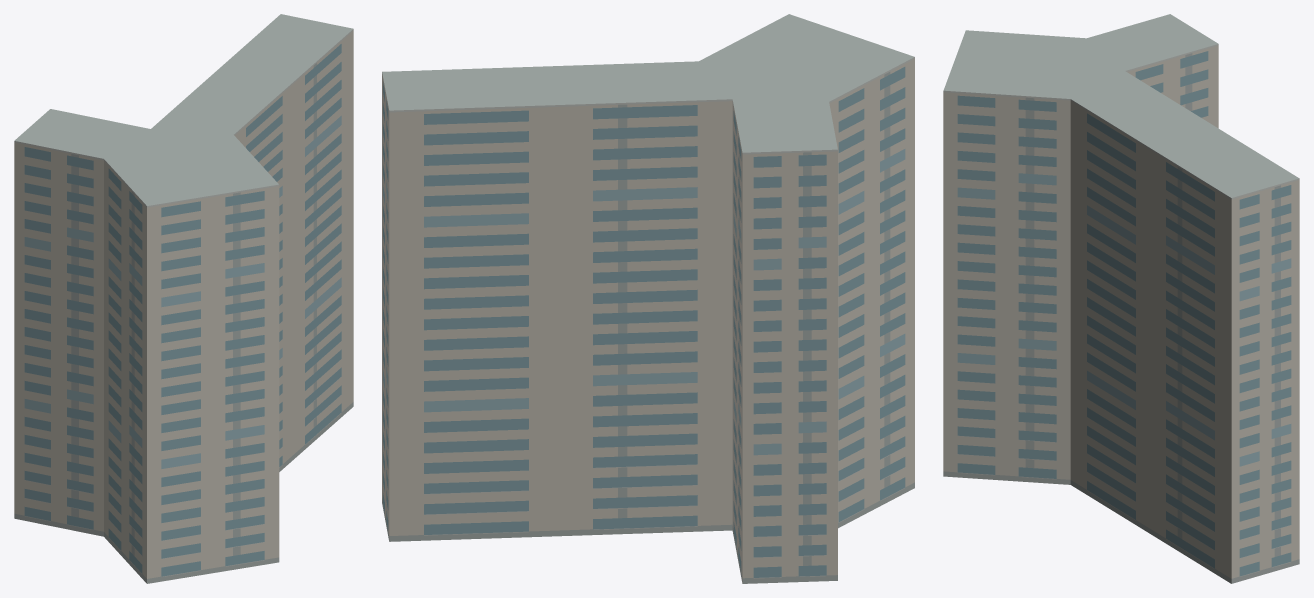
The model's file is residential-d51cc804-65f7-4281-8506-efc0c83cc1ff.glb.
The picture shows the model from 3 angles, left to right: view 1: azimuth 30°, elevation 25°; view 2: azimuth 150°, elevation 25°; view 3: azimuth 270°, elevation 25°; orthographic projection. The views are drawn at different scales.
Parts seen in each view (by area): view 1: residential-d51cc804-65f7-4281-8506-efc0c83cc1ff.tmp; view 2: residential-d51cc804-65f7-4281-8506-efc0c83cc1ff.tmp; view 3: residential-d51cc804-65f7-4281-8506-efc0c83cc1ff.tmp.
Boxes of the visible parts, <box> form: residential-d51cc804-65f7-4281-8506-efc0c83cc1ff.tmp: <box>14,14,353,583</box>; residential-d51cc804-65f7-4281-8506-efc0c83cc1ff.tmp: <box>382,14,914,583</box>; residential-d51cc804-65f7-4281-8506-efc0c83cc1ff.tmp: <box>943,14,1299,583</box>.
Bounding box in the file's own units: 61.4 × 60 × 50.19.
